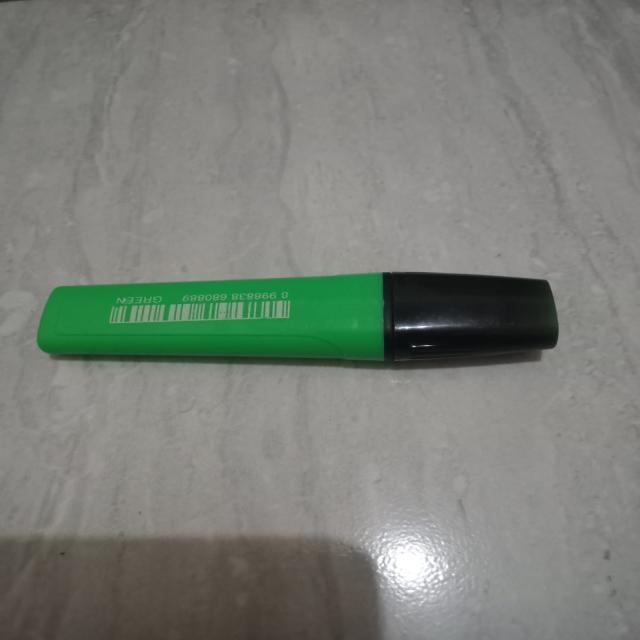highlighter: (13, 264, 600, 378)
